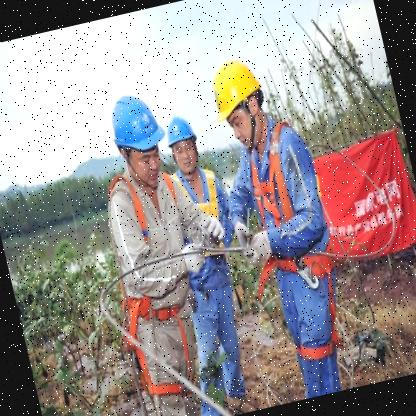capacete: (100, 85, 176, 195), (201, 51, 276, 155), (163, 112, 206, 176)
sem_colete_refletivo: (232, 123, 343, 286), (96, 162, 212, 315), (167, 158, 249, 282)
